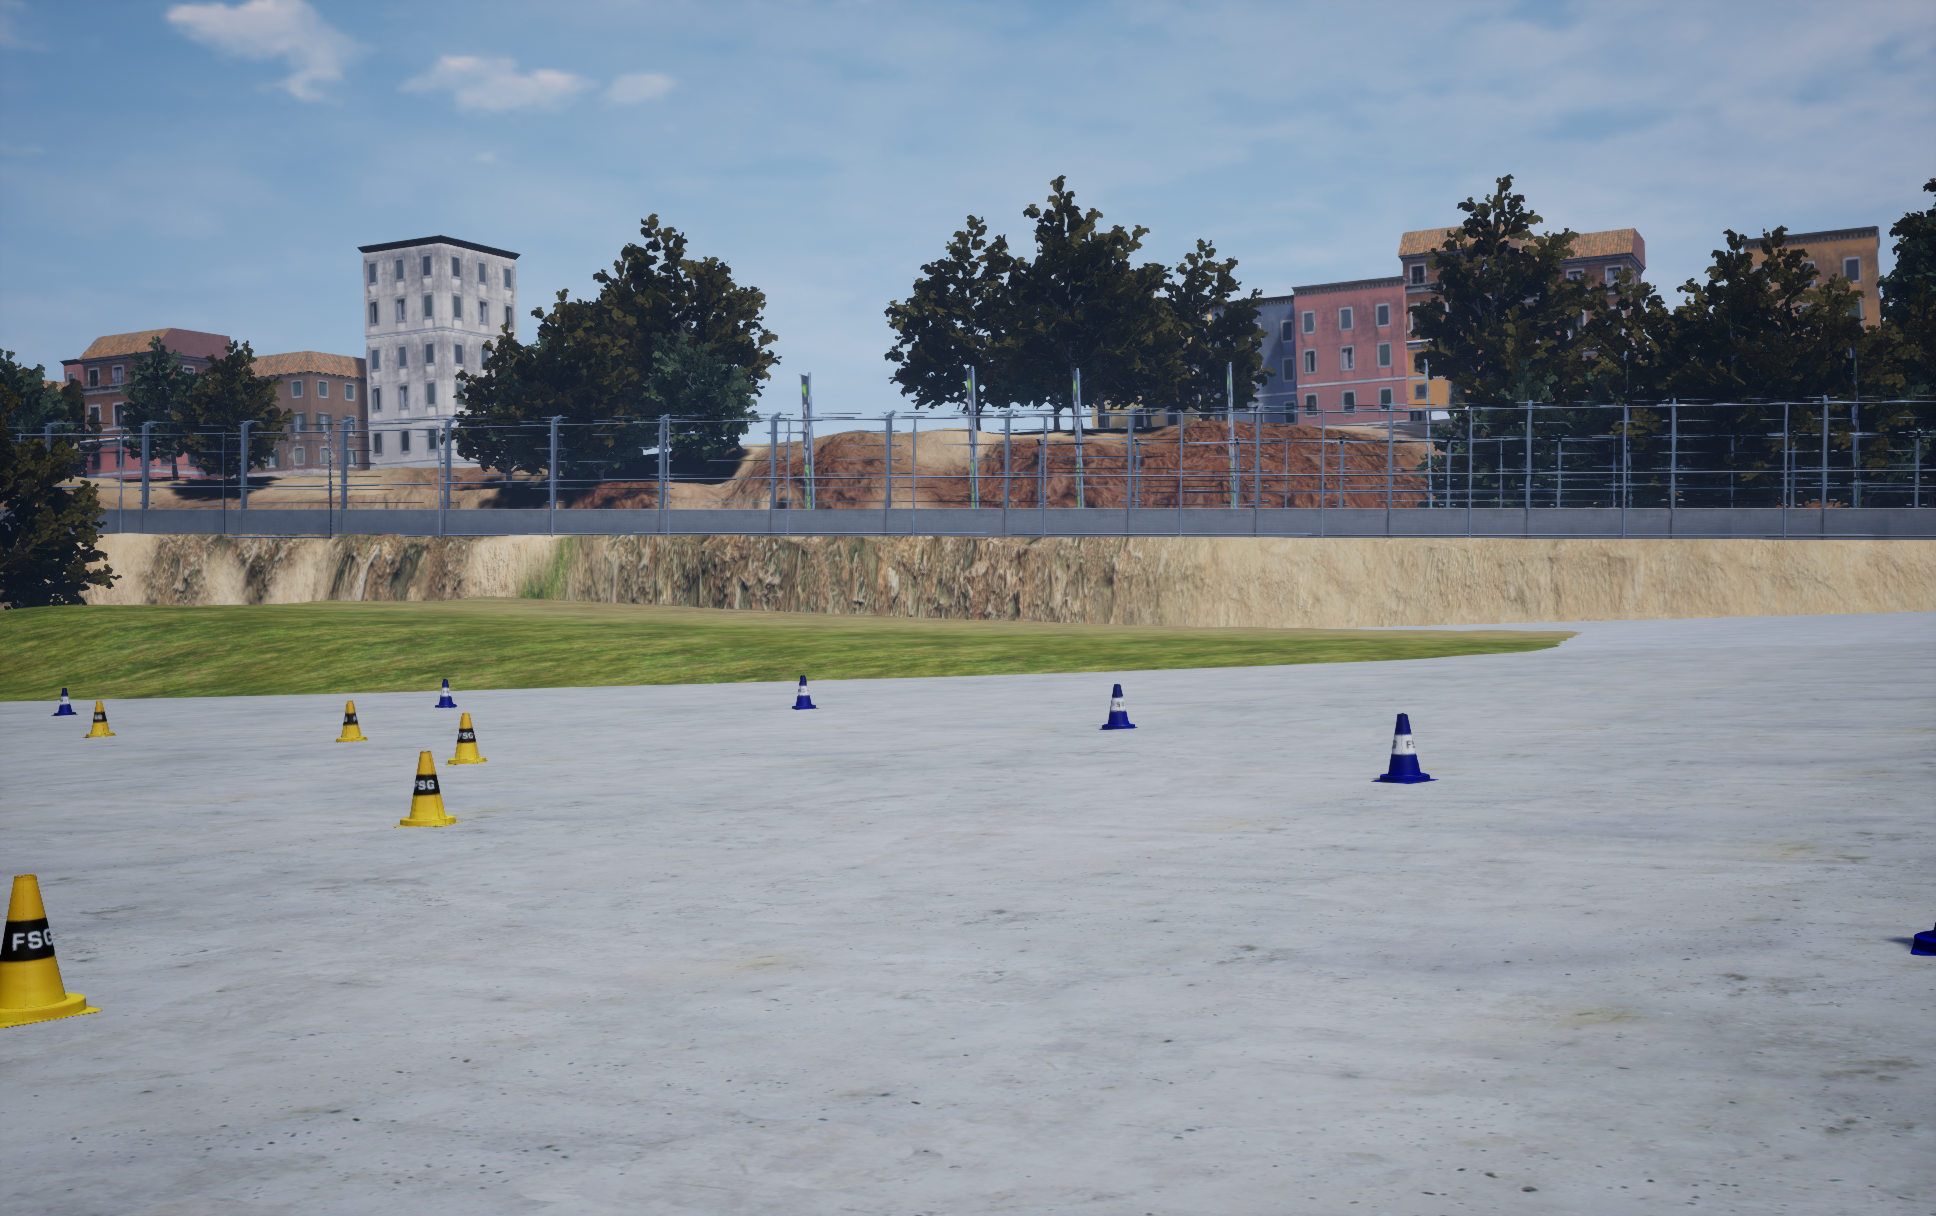blue: (0, 874, 102, 1027), (394, 751, 462, 827), (445, 713, 488, 764), (335, 700, 367, 742), (81, 700, 116, 737)
yellow: (1371, 713, 1439, 783), (1100, 684, 1138, 728), (791, 675, 818, 709), (1909, 922, 1935, 955), (50, 688, 77, 714), (436, 679, 457, 707)
